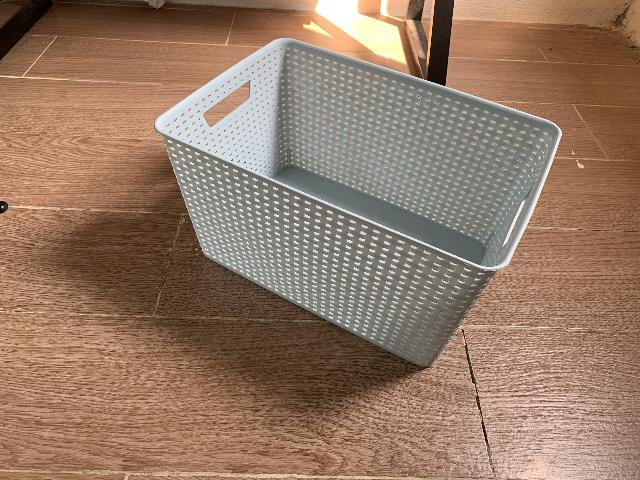cart: (154, 37, 563, 369)
